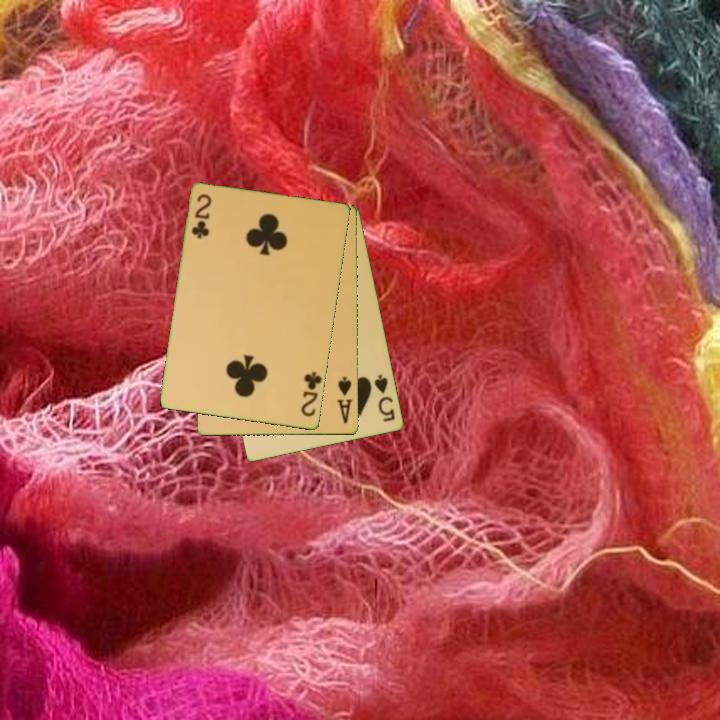2c: (188, 191, 215, 242), (298, 368, 324, 420)
5s: (371, 371, 398, 425)
As: (334, 374, 356, 426)
